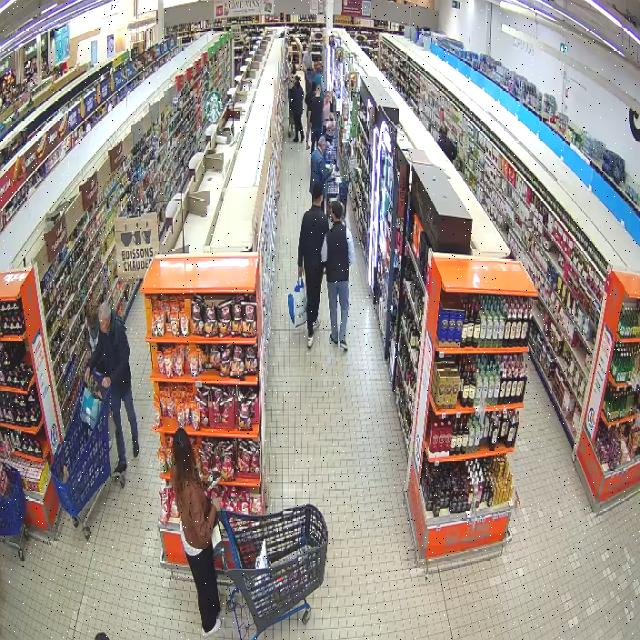article: (208, 468, 223, 486)
hands: (211, 491, 221, 511), (201, 476, 210, 490), (101, 376, 111, 387), (84, 368, 90, 383), (298, 266, 304, 278)
person: (171, 428, 220, 639), (85, 302, 138, 471), (321, 199, 355, 350), (298, 182, 328, 347)
